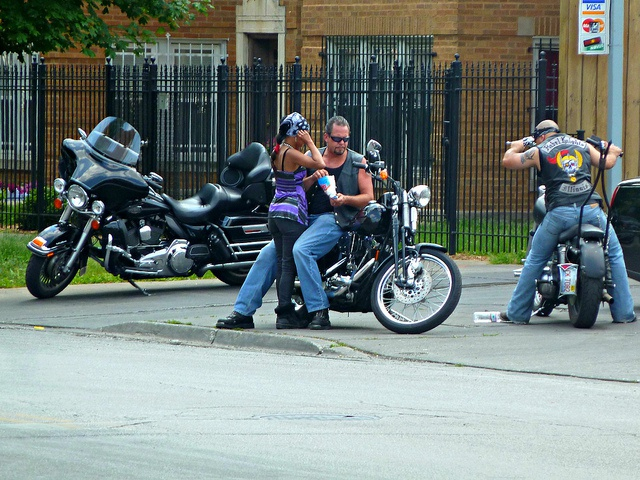non-vehicle: (23, 116, 277, 298), (320, 140, 461, 336), (535, 138, 612, 328)
